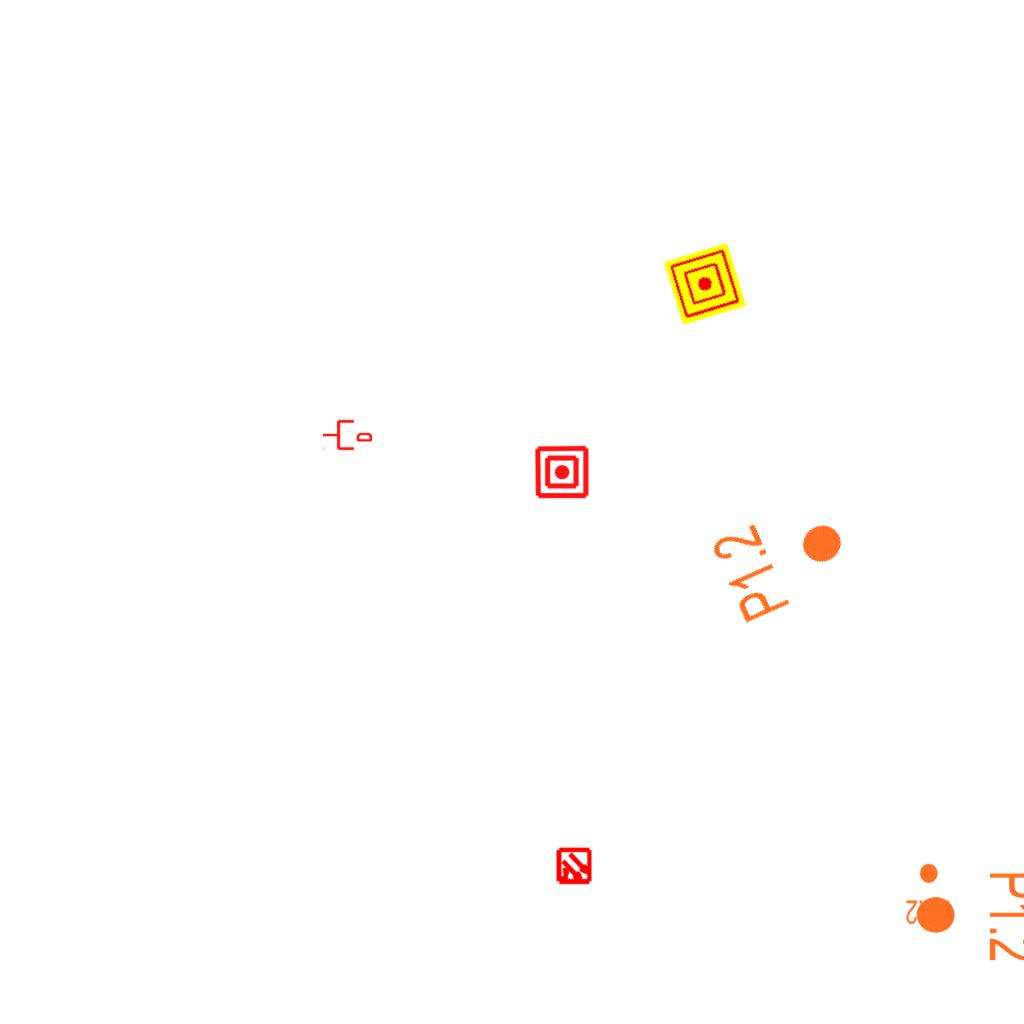Datenanschluss_einfach: (322, 418, 372, 452)
Downlight_LED_Einbauleuchten_Flur: (706, 490, 861, 628), (913, 870, 1024, 963), (905, 862, 951, 926)
NAM-Nichtautomatischer_Melder: (663, 242, 747, 326), (534, 444, 590, 500)
OT_Multisensormelder_(Kombination_RMO_WMD): (546, 839, 602, 895)
